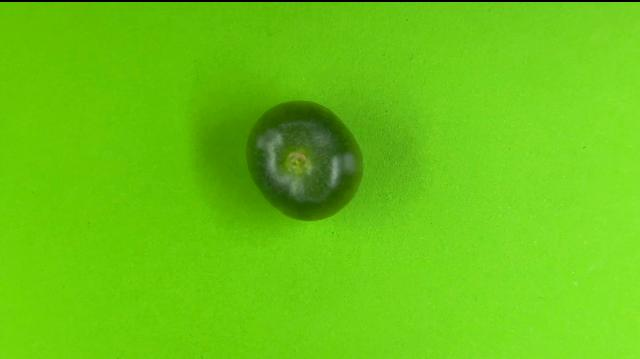Fruit Maturation: (243, 98, 367, 225)
